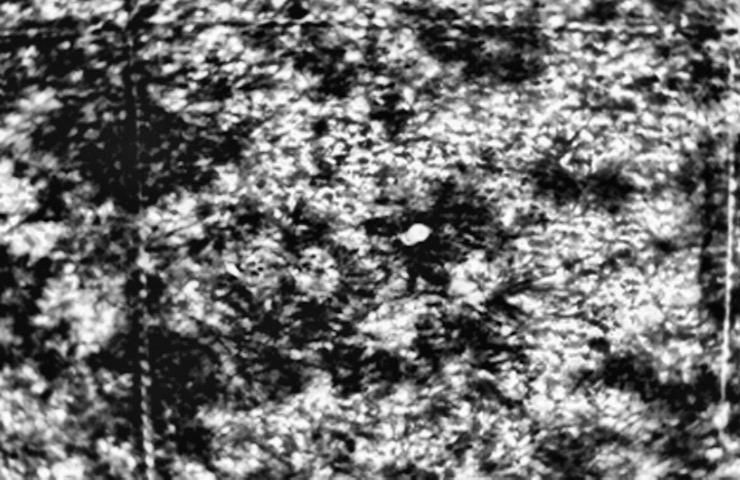landmines: (398, 219, 434, 251)
